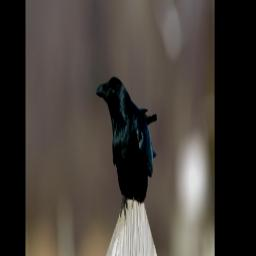Crow: (96, 72, 158, 220)
